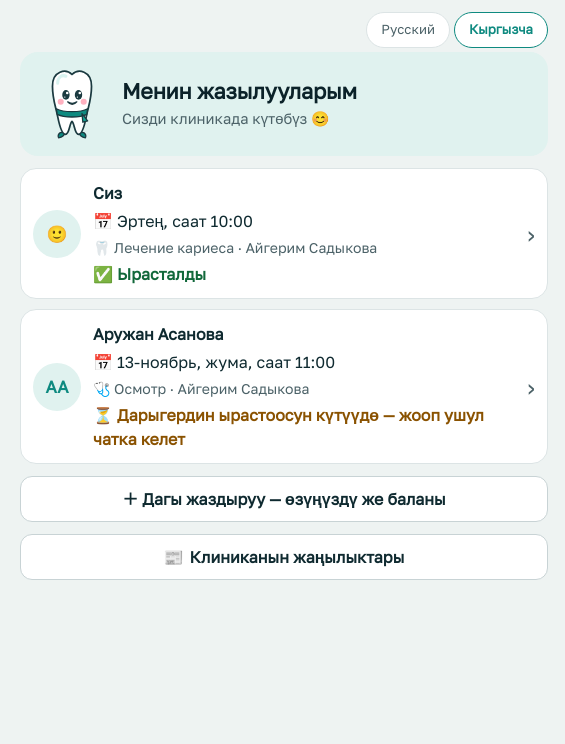
Scenario: «Мои записи» по-русски и по-кыргызски: чьи записи; отменить запись ребёнка — по её id
Check: the heading "Менин жазылууларым" is shown, box [122,78,357,104]
Check: the button "Сиз" is shown, box [20,168,548,299]
Click the button "Аружан Асанова": click(284, 387) [20,309,548,464]
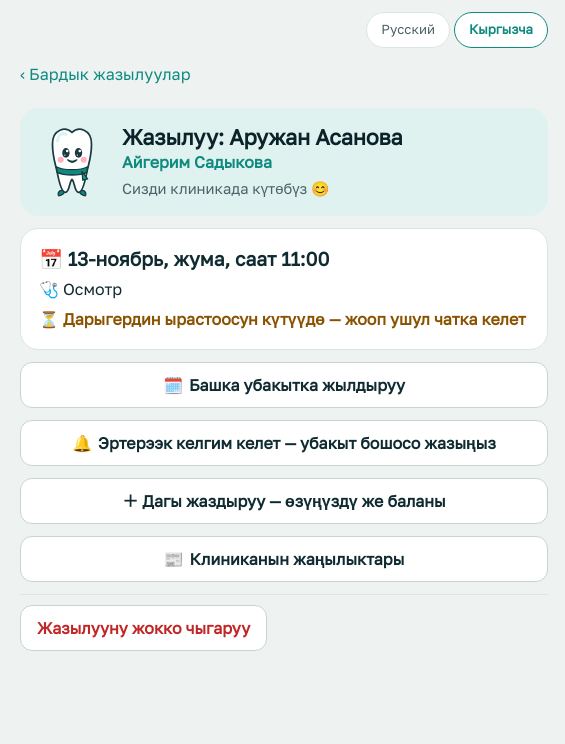
Check: the heading "Жазылуу: Аружан Асанова" is shown, box [122,124,402,150]
Click the button "Русский": click(408, 30) [366,12,450,48]
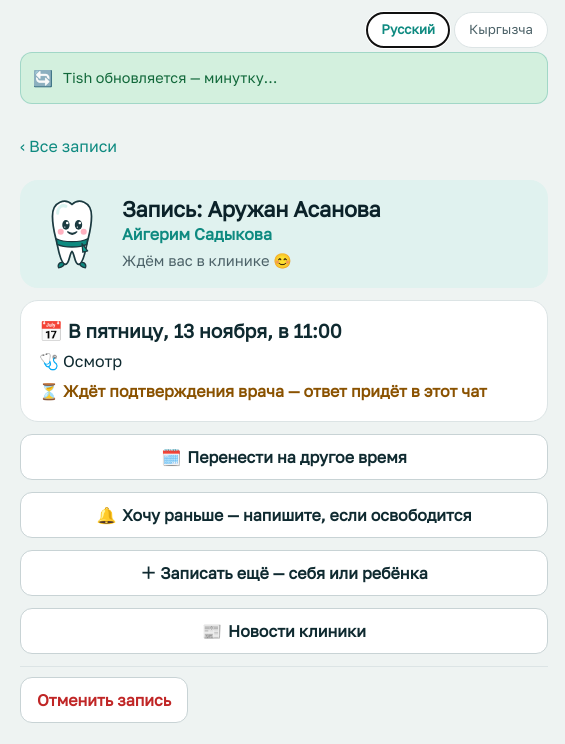
Check: the heading "Запись: Аружан Асанова" is shown, box [122,196,381,222]
Click the button "Отменить запись": click(104, 700) [20,677,188,723]
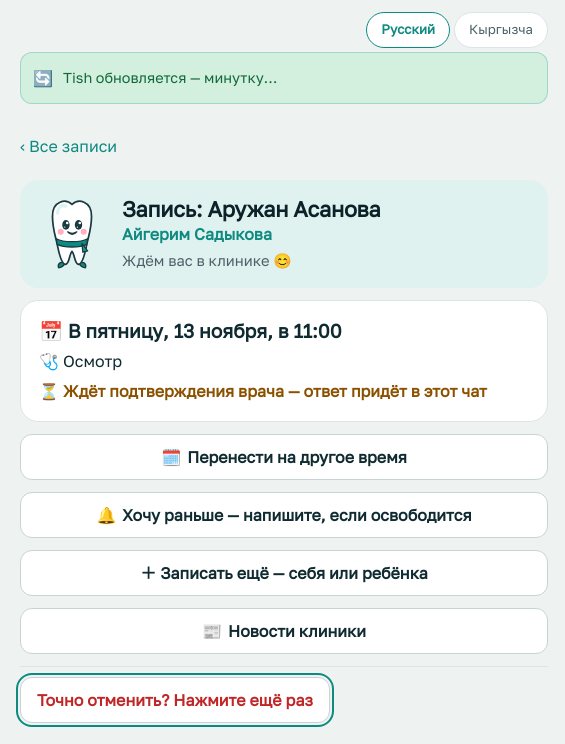
Click the button "Точно отменить? Нажмите ещё раз": click(175, 700) [20,677,330,723]
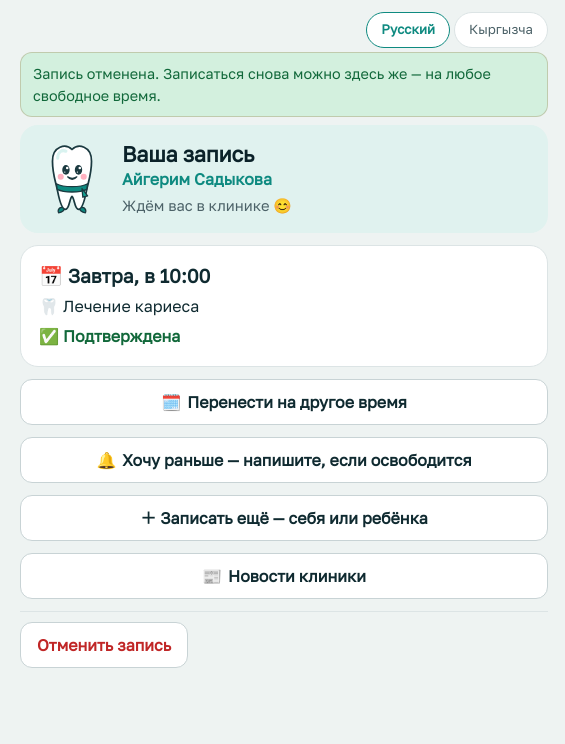
Check: the heading "Ваша запись" is shown, box [122,141,254,167]
